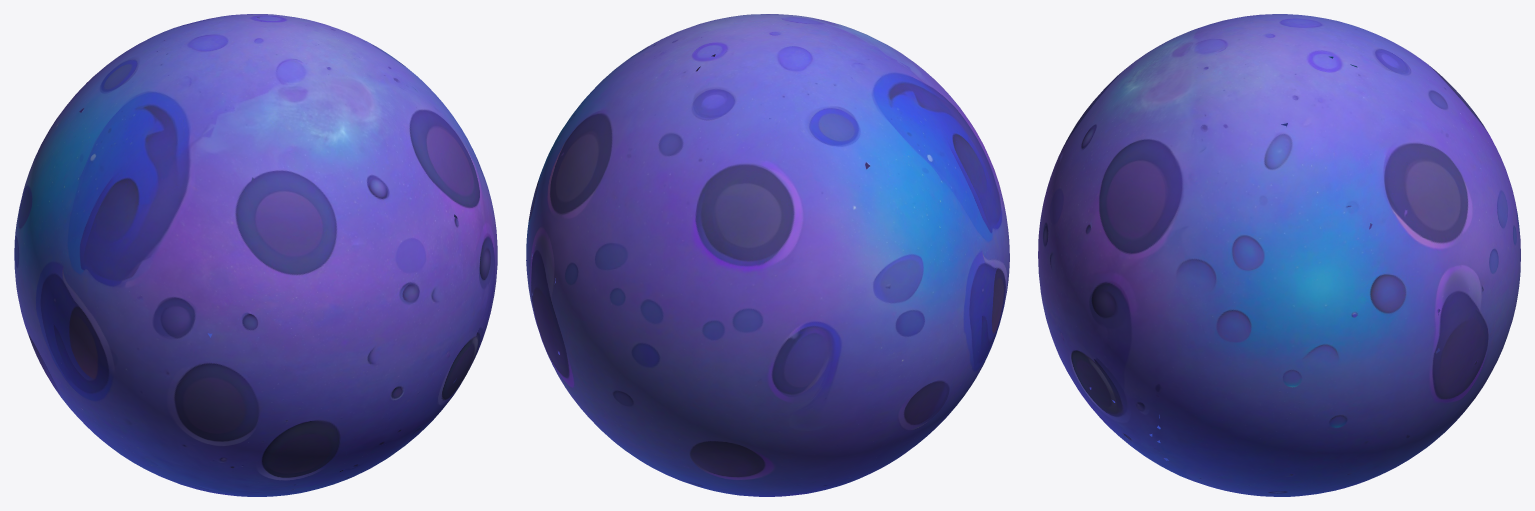
The model's file is moon.glb.
The picture shows the model from 3 angles, left to right: view 1: azimuth 30°, elevation 25°; view 2: azimuth 150°, elevation 25°; view 3: azimuth 270°, elevation 25°; orthographic projection.
Bounding box in the file's own units: 2 × 2 × 2.
Materials: 1 (1 with a texture image).
